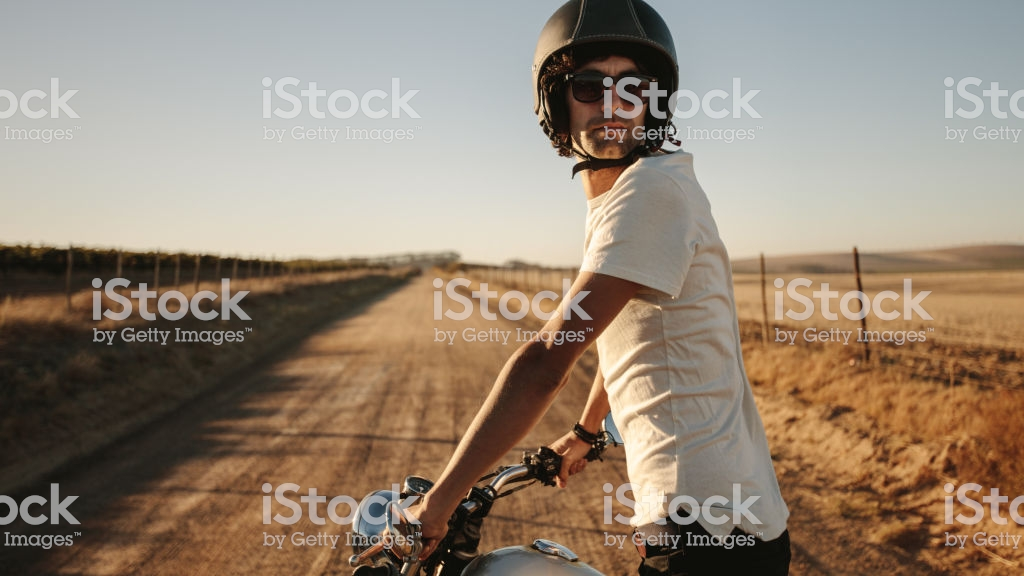helmet: (526, 1, 693, 126)
